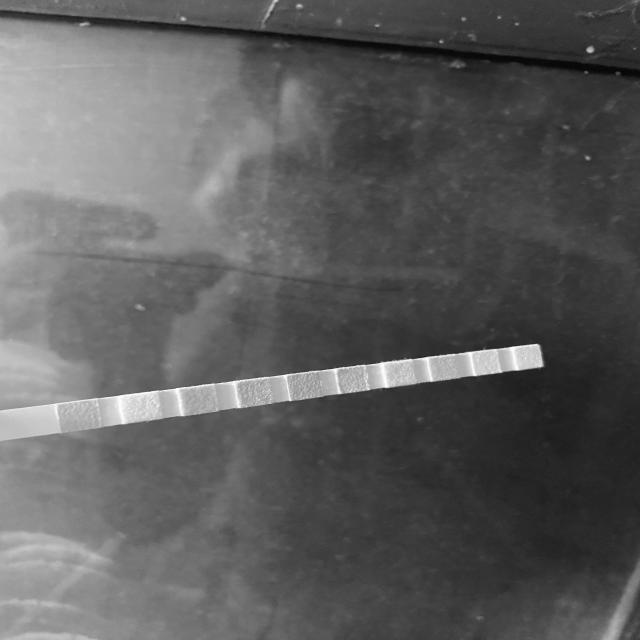Bilirubin: (126, 396, 157, 420)
Blood: (292, 374, 318, 396)
Glucose: (63, 404, 95, 428)
Ketone: (184, 388, 213, 413)
Leukocytes: (519, 347, 538, 367)
Nitrite: (476, 352, 496, 373)
Protein: (389, 363, 411, 384)
SpGravity: (240, 381, 269, 403)
Urobilinogen: (433, 357, 455, 379)
background: (0, 0, 640, 640)
pH: (342, 368, 364, 391)
strip: (1, 344, 546, 441)
